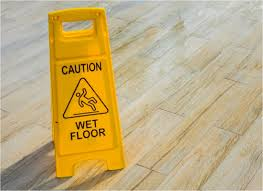wet caution sign: (42, 5, 126, 173)
